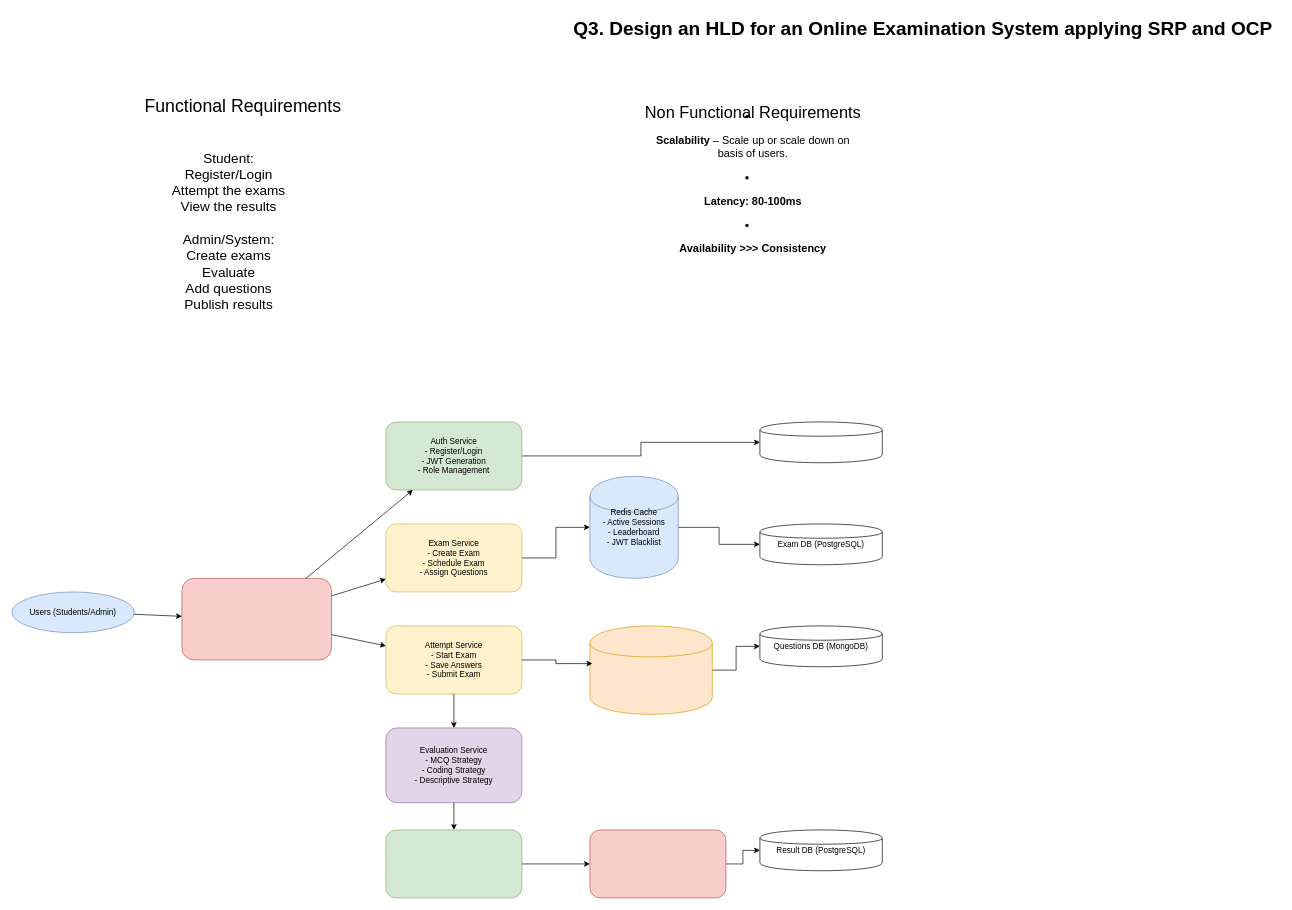
Some shapes in this 1292 by 910 pixel diagram are drawn without their labels. Each missing label, with the centre of its shape:
"API Gateway - Auth Validation - Rate Limiting - Load Balancing - Routing" goes at (x=256, y=619).
"Kafka / Message Queue - ExamSubmitted Event - ResultPublished Event" goes at (x=650, y=669).
"Notification Service - Email - SMS - Push Alerts" goes at (x=657, y=863).
"Result Service - Score Calculation - Ranking - Publish Result" goes at (x=453, y=863).
"Students DB (PostgreSQL)" goes at (x=820, y=442).
